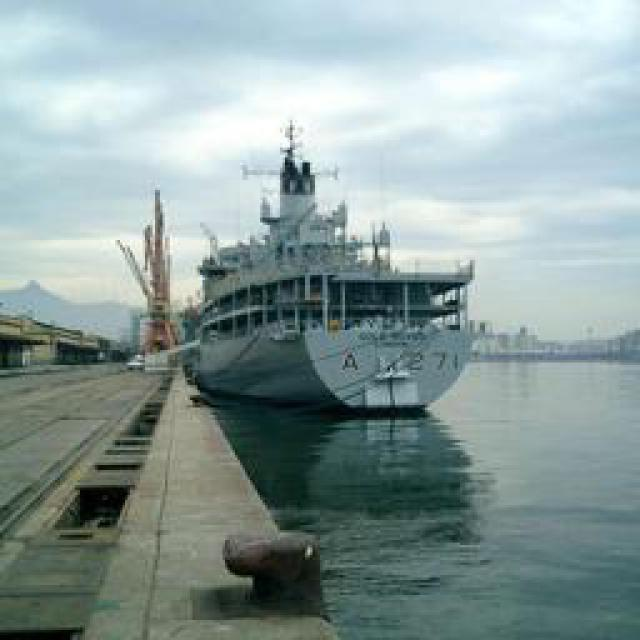Ship: (190, 245, 480, 415)
